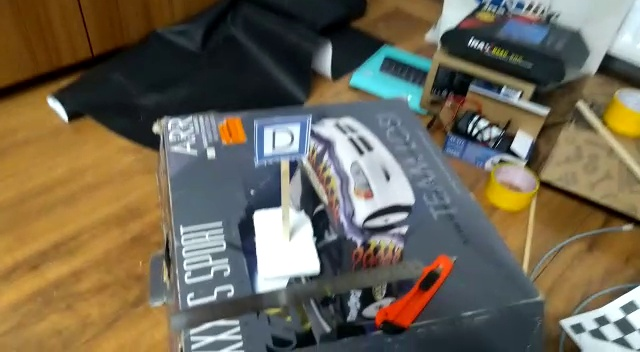durak: (254, 110, 312, 161)
